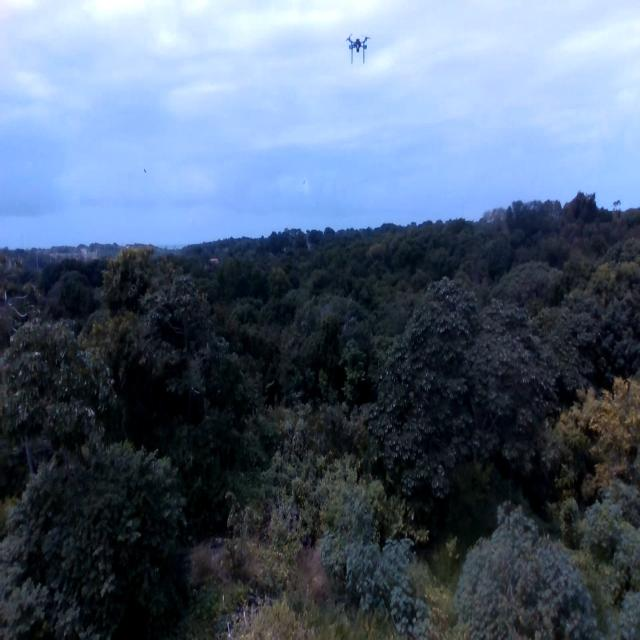-uav-: (336, 20, 376, 78)
